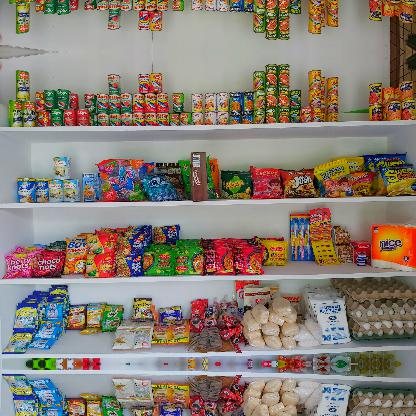Koko-Krunch: (191, 151, 208, 201)
